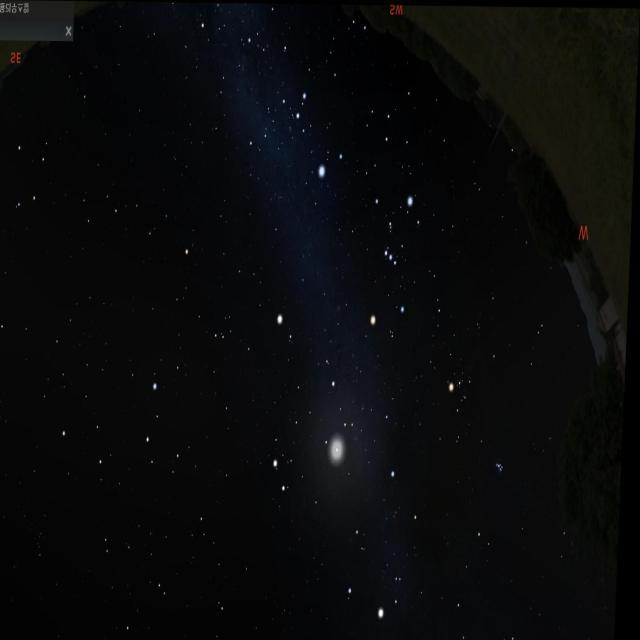canis_major: (291, 83, 353, 185)
canis_minor: (272, 282, 306, 361)
gemini: (266, 345, 374, 512)
leo: (42, 360, 206, 513)
moon: (325, 427, 363, 484)
orion: (363, 188, 427, 338)
pleiades: (494, 446, 516, 475)
taurus: (437, 346, 523, 486)
